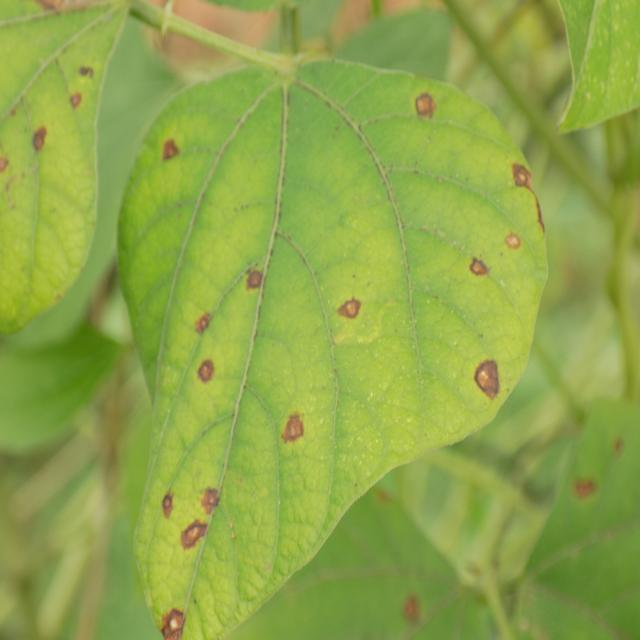Dolicos bean_cercospora leaf spot: (120, 53, 544, 640)
